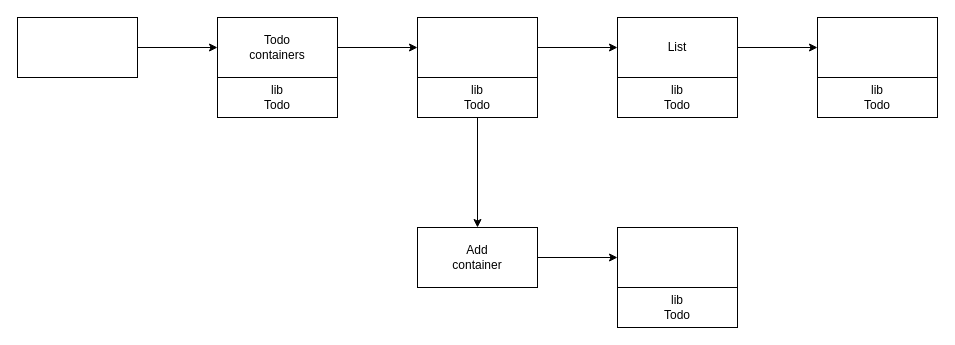
Some shapes in this 955 by 345 pixel diagram are drawn without their labels. Each missing label, with the centre of its shape:
"Add compontents" goes at point 677,257.
"App" goes at point 77,47.
"Item" goes at point 877,47.
"Todo compontents" goes at point 477,47.
